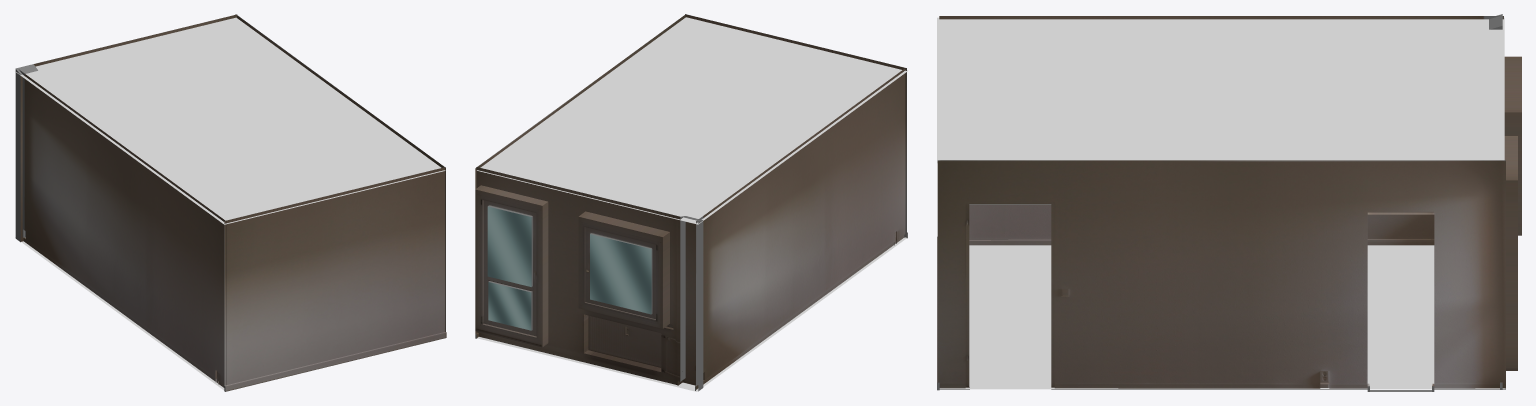
Rendered from 201019_detailmodel_WoZi.fbx.
3 renders of one model, left to right at view 1: azimuth 30°, elevation 25°; view 2: azimuth 150°, elevation 25°; view 3: azimuth 270°, elevation 25°, orthographic. The views are drawn at different scales.
Parts seen in each view (by area): view 1: WoZi.Decke, Wozi-Wandkurz, Wozi-Wandseite, Wand-Fensterseite, WoZi-Türseite, WoZi.Boden; view 2: WoZi.Decke, Wozi-Wandseite, Wand-Fensterseite, WoZiFenster, WoZi.Boden, Wozi-Wandkurz, WoZi-Türseite; view 3: WoZi-Türseite, WoZi.Decke, WoZi.Boden, Wozi-Wandseite, Wand-Fensterseite.
Part boxes in pixels (bbox=[...]): WoZi.Decke: bbox=[15, 17, 445, 224]; Wozi-Wandkurz: bbox=[224, 167, 446, 391]; Wozi-Wandseite: bbox=[19, 69, 226, 387]; Wand-Fensterseite: bbox=[15, 14, 237, 242]; WoZi-Türseite: bbox=[235, 14, 445, 331]; WoZi.Boden: bbox=[15, 237, 224, 390]; WoZi.Decke: bbox=[477, 17, 908, 224]; Wozi-Wandseite: bbox=[695, 68, 905, 390]; Wand-Fensterseite: bbox=[475, 167, 703, 391]; WoZiFenster: bbox=[487, 206, 651, 330]; WoZi.Boden: bbox=[477, 237, 906, 391]; Wozi-Wandkurz: bbox=[685, 14, 907, 238]; WoZi-Türseite: bbox=[475, 15, 685, 338]; WoZi-Türseite: bbox=[937, 160, 1505, 391]; WoZi.Decke: bbox=[937, 17, 1504, 163]; WoZi.Boden: bbox=[939, 245, 1505, 389]; Wozi-Wandseite: bbox=[939, 16, 1503, 245]; Wand-Fensterseite: bbox=[1489, 14, 1521, 389].
Bounding box in the file's own units: 580 × 420 × 966.
